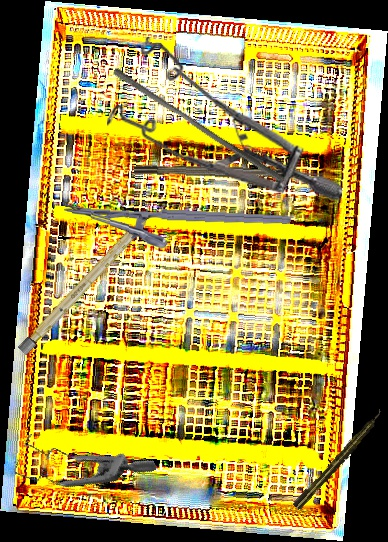Handpiece: (291, 407, 387, 512)
Hook Surgical: (133, 163, 325, 181)
Needle Holder: (62, 202, 291, 256)
Pusher: (108, 67, 290, 184)
Scalpel Handle: (17, 214, 151, 356)
Speculum: (106, 36, 345, 202), (2, 389, 158, 529)
